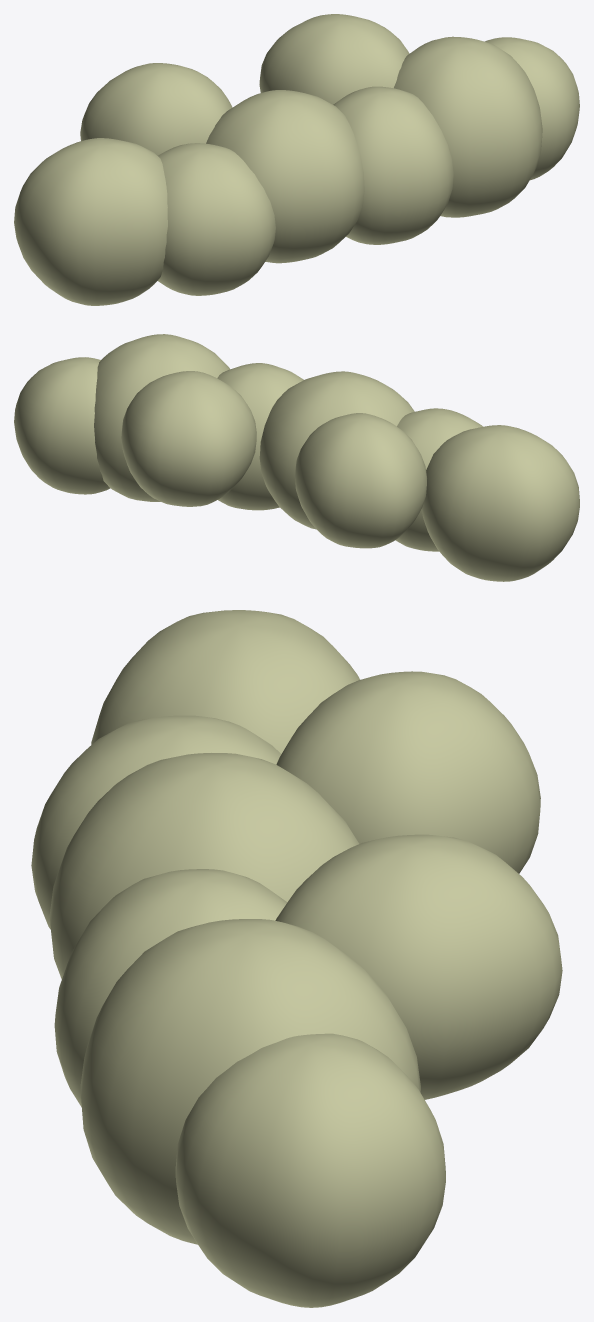
The model's file is cali-uzun.glb.
3 renders of one model, top to bottom at view 1: azimuth 30°, elevation 25°; view 2: azimuth 150°, elevation 25°; view 3: azimuth 270°, elevation 25°, orthographic. The views are drawn at different scales.
Visible parts, largest first — view 1: 67P_PROP_BUSH_UZUN_01_BODY; view 2: 67P_PROP_BUSH_UZUN_01_BODY; view 3: 67P_PROP_BUSH_UZUN_01_BODY.
Part boxes in pixels (left/top/right/bottom): 67P_PROP_BUSH_UZUN_01_BODY: left=14, top=14, right=579, bottom=305; 67P_PROP_BUSH_UZUN_01_BODY: left=14, top=334, right=579, bottom=581; 67P_PROP_BUSH_UZUN_01_BODY: left=31, top=610, right=562, bottom=1307.
Bounding box in the file's own units: 2.55 × 0.753 × 1.11.
